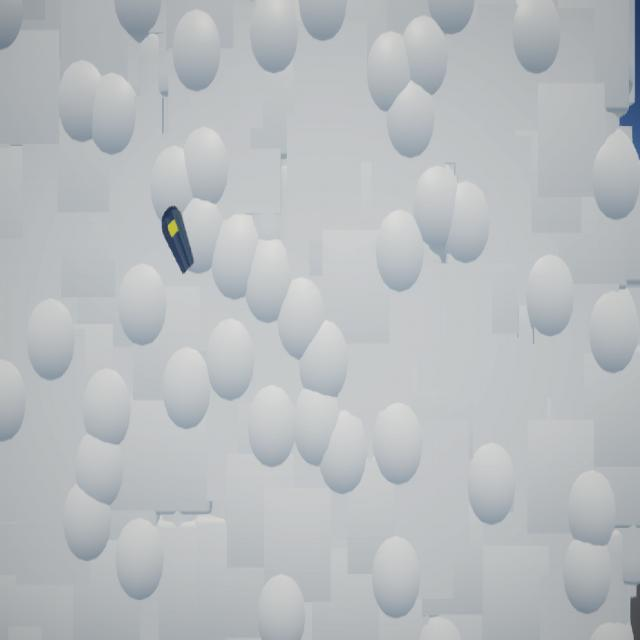handle_folk: (162, 206, 195, 276)
